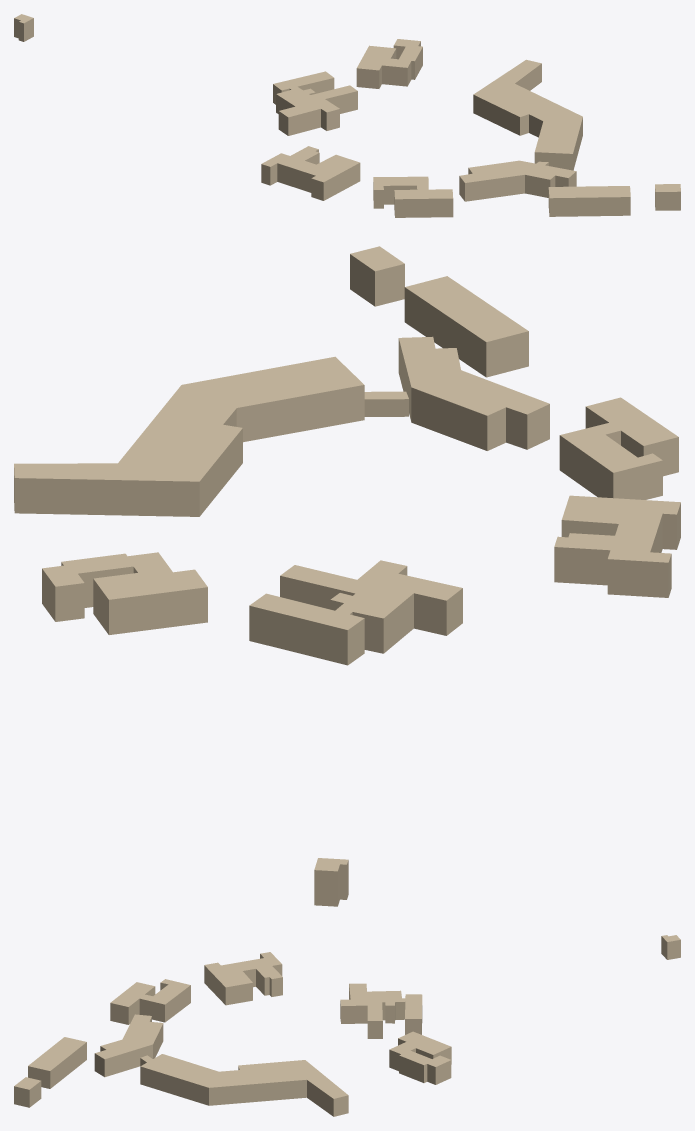
File: -8_7-estimated-coarse.glb
3 views of the same model, one above another, from view 1: azimuth 30°, elevation 25°; view 2: azimuth 150°, elevation 25°; view 3: azimuth 270°, elevation 25° (orthographic). The views are drawn at different scales.
Bounding box in the file's own units: 235 × 12 × 404.
